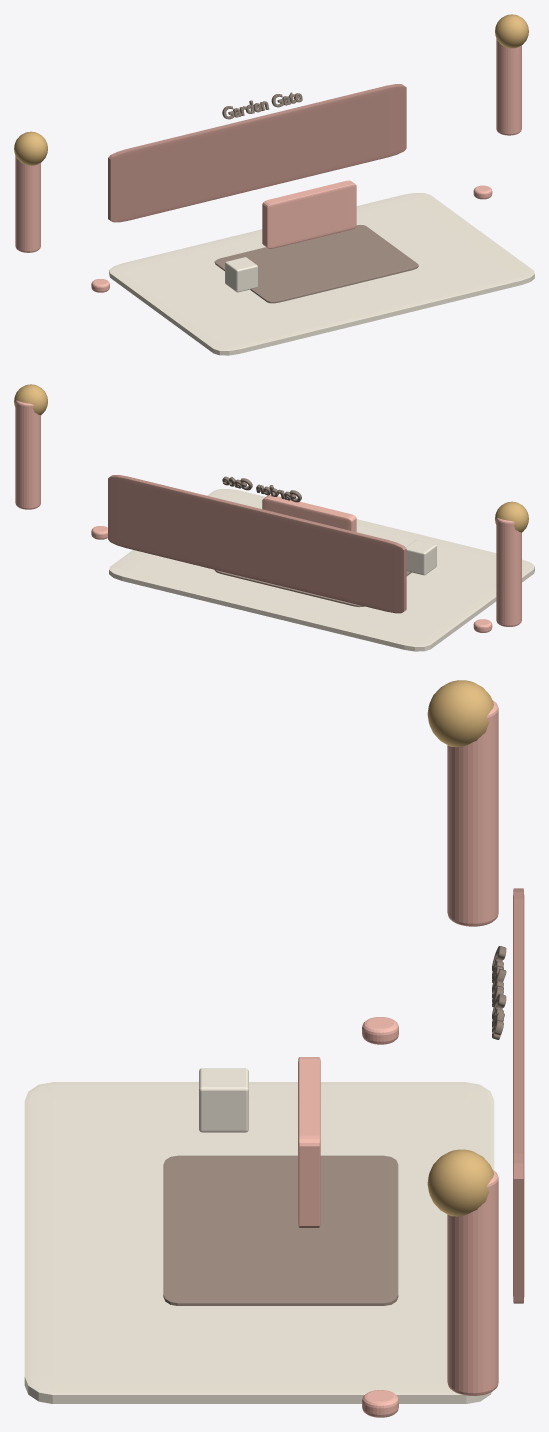
Rendered from 16_physical_puzzle.glb.
The picture shows the model from 3 angles, top to bottom: view 1: azimuth 30°, elevation 25°; view 2: azimuth 150°, elevation 25°; view 3: azimuth 270°, elevation 25°; orthographic projection. The views are drawn at different scales.
Visible parts, largest first — view 1: PaperFloor-col, BackCard, StageMat, GardenGate-col, PaperLantern, PaperLantern.001, GateBellTrigger, LanternGlow, LanternGlow.001, TitleLabel; view 2: BackCard, PaperFloor-col, PaperLantern.001, PaperLantern, GardenGate-col, GateBellTrigger, TitleLabel, LanternGlow, LanternGlow.001, StageMat; view 3: PaperFloor-col, StageMat, PaperLantern, PaperLantern.001, BackCard, GardenGate-col, LanternGlow.001, LanternGlow, GateBellTrigger, TitleLabel, CardConfetti, CardConfetti.001.
Boxes of the visible parts, x1=… form: PaperFloor-col: x1=109, y1=193, x2=534, y2=355; BackCard: x1=108, y1=84, x2=406, y2=222; StageMat: x1=214, y1=225, x2=418, y2=303; GardenGate-col: x1=262, y1=180, x2=356, y2=248; PaperLantern: x1=15, y1=155, x2=40, y2=252; PaperLantern.001: x1=496, y1=38, x2=521, y2=135; GateBellTrigger: x1=225, y1=257, x2=257, y2=292; LanternGlow: x1=14, y1=131, x2=47, y2=165; LanternGlow.001: x1=495, y1=14, x2=528, y2=48; TitleLabel: x1=222, y1=92, x2=302, y2=119; BackCard: x1=108, y1=475, x2=406, y2=613; PaperFloor-col: x1=109, y1=489, x2=534, y2=651; PaperLantern.001: x1=15, y1=400, x2=40, y2=509; PaperLantern: x1=496, y1=518, x2=521, y2=626; GardenGate-col: x1=262, y1=494, x2=356, y2=531; GateBellTrigger: x1=405, y1=540, x2=436, y2=575; TitleLabel: x1=222, y1=476, x2=301, y2=502; LanternGlow: x1=495, y1=501, x2=528, y2=532; LanternGlow.001: x1=14, y1=384, x2=47, y2=415; StageMat: x1=214, y1=570, x2=411, y2=607; PaperFloor-col: x1=24, y1=1082, x2=494, y2=1403; StageMat: x1=163, y1=1155, x2=398, y2=1305; PaperLantern: x1=447, y1=700, x2=498, y2=926; PaperLantern.001: x1=447, y1=1169, x2=498, y2=1395; BackCard: x1=513, y1=888, x2=524, y2=1303; GardenGate-col: x1=298, y1=1057, x2=320, y2=1227; LanternGlow.001: x1=427, y1=1149, x2=493, y2=1216; LanternGlow: x1=427, y1=680, x2=493, y2=747; GateBellTrigger: x1=199, y1=1068, x2=248, y2=1132; TitleLabel: x1=492, y1=946, x2=506, y2=1039; CardConfetti: x1=362, y1=1017, x2=398, y2=1044; CardConfetti.001: x1=362, y1=1390, x2=398, y2=1417.
Bounding box in the file's own units: 8.28 × 2.56 × 3.51.
